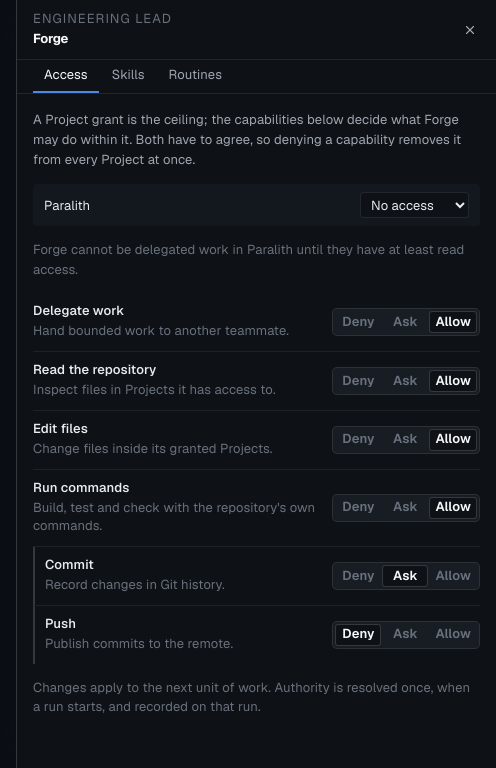
it: AgentSettingsPanel › lets a teammate created without access be given some, rather than dead-ending
Expected: the text "cannot be delegated work in Paralith" is shown, [33, 240, 480, 279]
Select "Read / write" in the dropdown named "Forge access to Paralith" at (414, 205), box [360, 192, 469, 218]
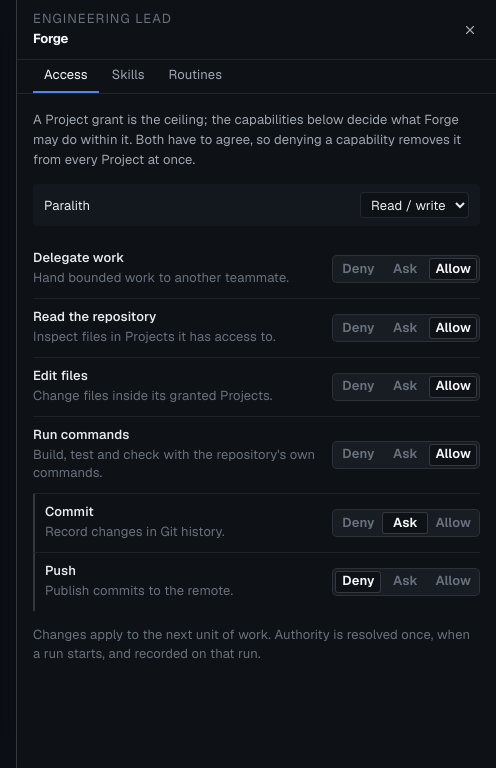
Result: the text "cannot be delegated work in Paralith" is gone
